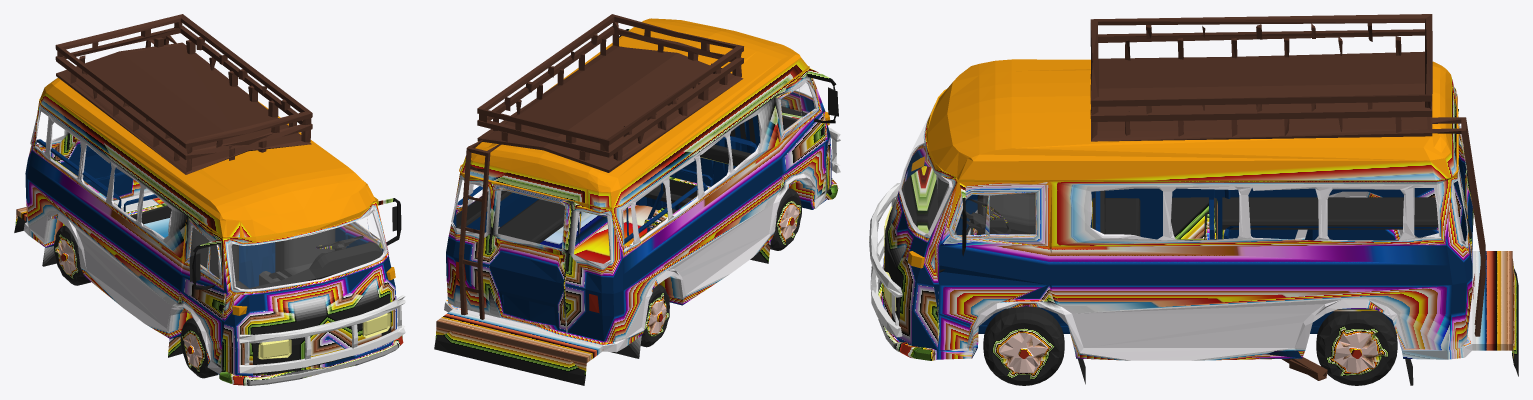
The model's file is trotro_car_rapide.glb.
3 renders of one model, left to right at view 1: azimuth 30°, elevation 25°; view 2: azimuth 150°, elevation 25°; view 3: azimuth 270°, elevation 25°, orthographic. The views are drawn at different scales.
Parts seen in each view (by area): view 1: Carosserie_Material_0, Carosserie_Parebrise_0; view 2: Carosserie_Material_0; view 3: Carosserie_Material_0, Carosserie_Parebrise_0.
Boxes of the visible parts, <box> form: Carosserie_Material_0: <box>14,14,405,385</box>; Carosserie_Parebrise_0: <box>232,213,384,288</box>; Carosserie_Material_0: <box>434,14,840,385</box>; Carosserie_Material_0: <box>869,14,1518,385</box>; Carosserie_Parebrise_0: <box>902,122,948,232</box>.
Size of the model in its own units: 2.48 by 2.39 by 5.
2 materials, 1 textured.
